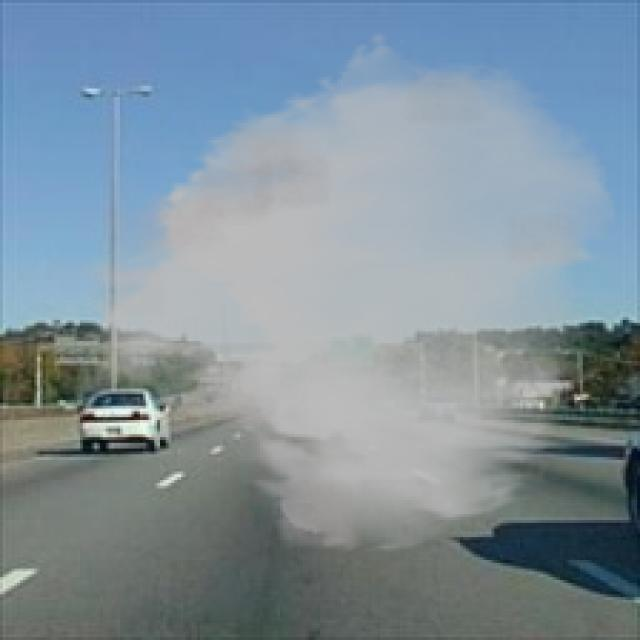smoke: (63, 32, 620, 557)
